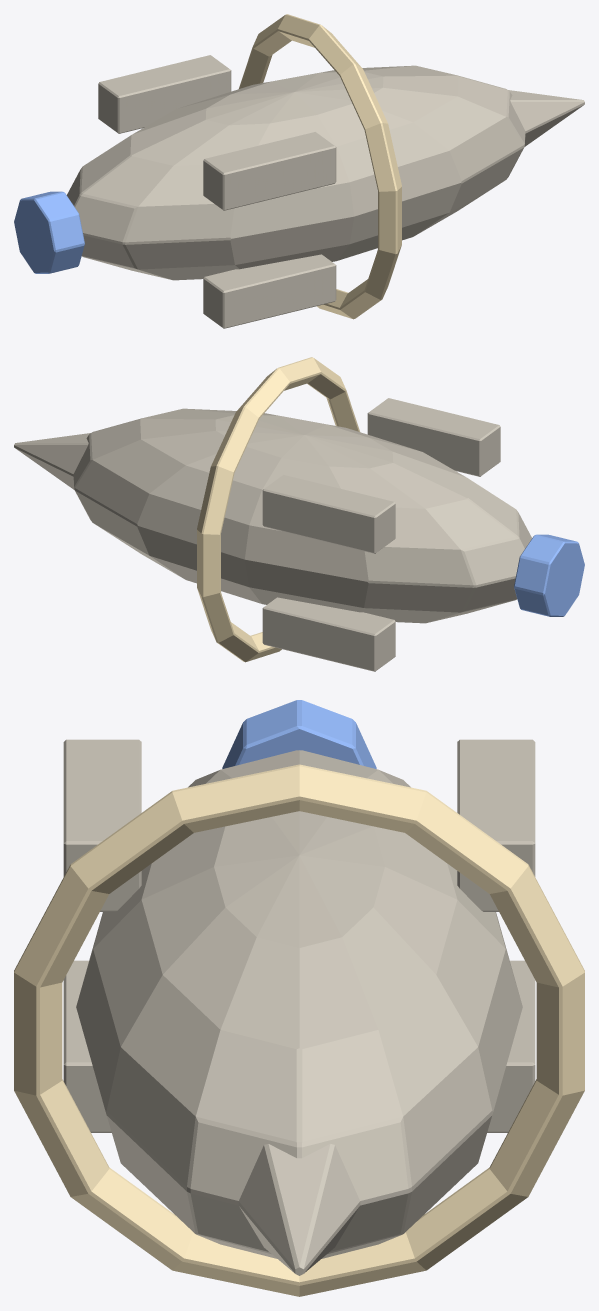
File: SM_KeshRefugeTender.fbx
The picture shows the model from 3 angles, top to bottom: view 1: azimuth 30°, elevation 25°; view 2: azimuth 150°, elevation 25°; view 3: azimuth 270°, elevation 25°; orthographic projection. The views are drawn at different scales.
Visible parts, largest first — view 1: SM_KeshRefugeTender; view 2: SM_KeshRefugeTender; view 3: SM_KeshRefugeTender.
Part boxes in pixels (bbox=[...]): SM_KeshRefugeTender: bbox=[14, 14, 584, 328]; SM_KeshRefugeTender: bbox=[14, 357, 584, 671]; SM_KeshRefugeTender: bbox=[14, 700, 584, 1296].
Bounding box in the file's own units: 213 × 105 × 102.
